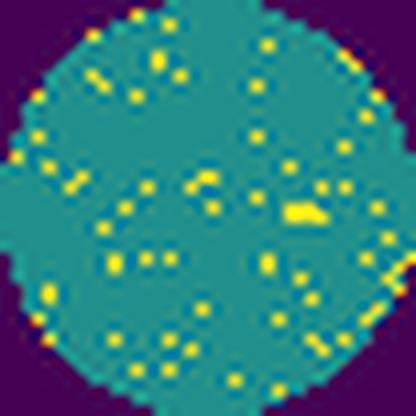Loc: (284, 202, 329, 226)
